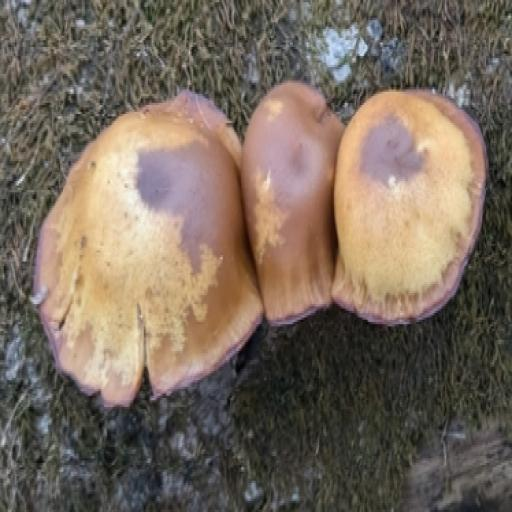mushroom: (35, 77, 489, 414)
